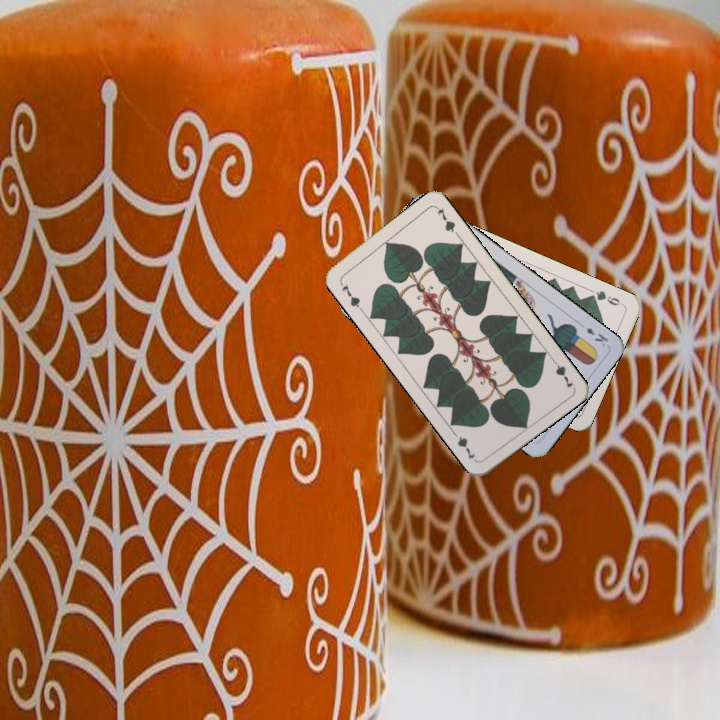EK: (581, 323, 611, 350)
G7: (547, 354, 576, 391), (336, 277, 365, 312)
G9: (585, 286, 626, 308)
